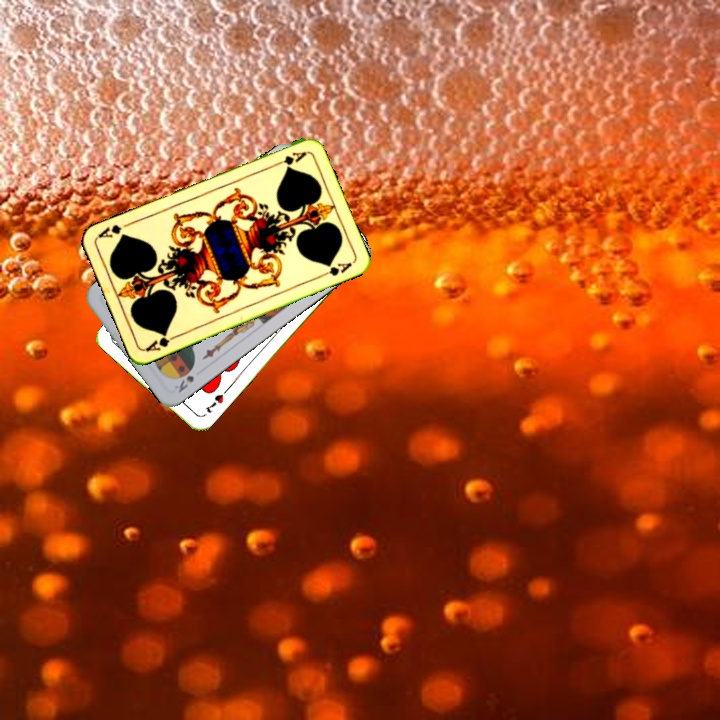GA: (142, 329, 181, 354), (270, 147, 309, 169)
H7: (201, 390, 226, 416)
SK: (170, 371, 197, 395)
